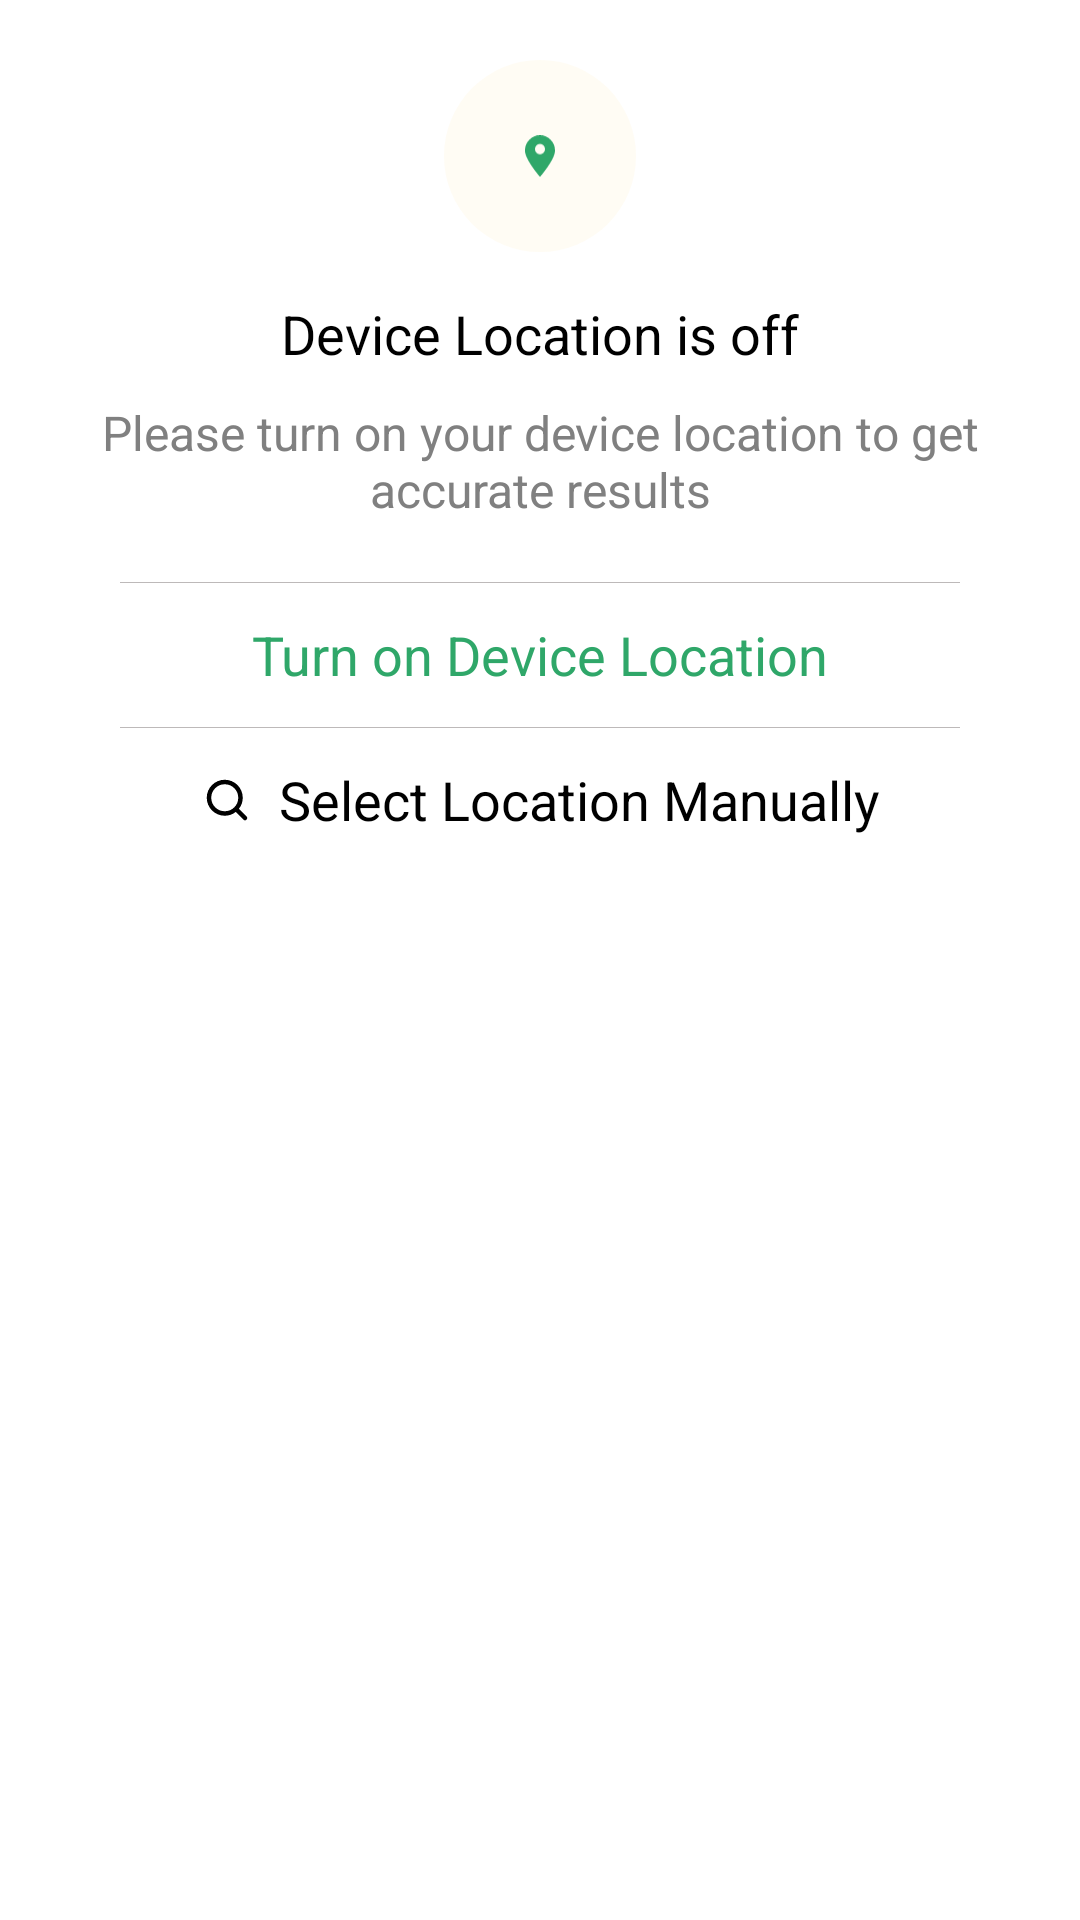

Icons on this 1080 x 1920 Android screen, each with the point to tap as (x,y):
location marker: (540,156)
